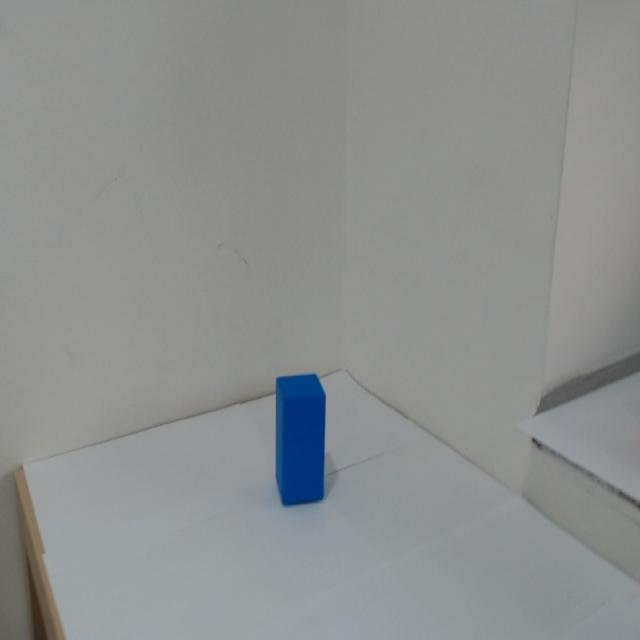cube: (243, 344, 372, 540)
